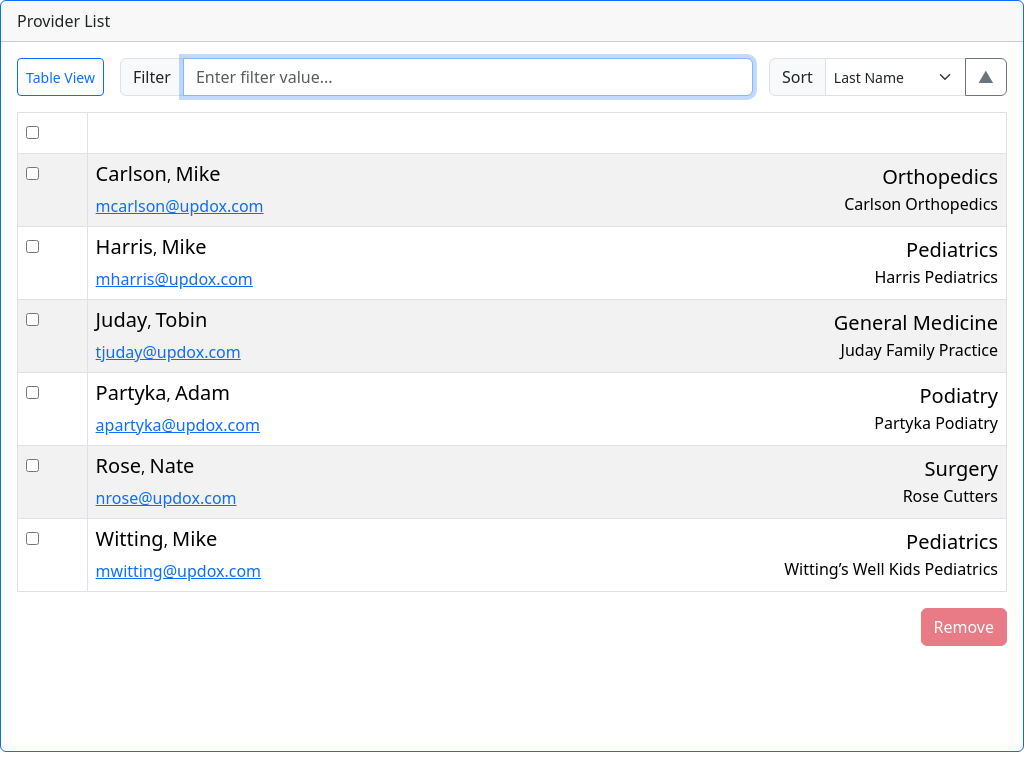
Test: ProviderList › can select and deselect all rows
The width and height of the screenshot is (1024, 768).
Click the checkbox with test id "select-all" at (32,132), box top-left (26, 126), bottom-right (39, 139)
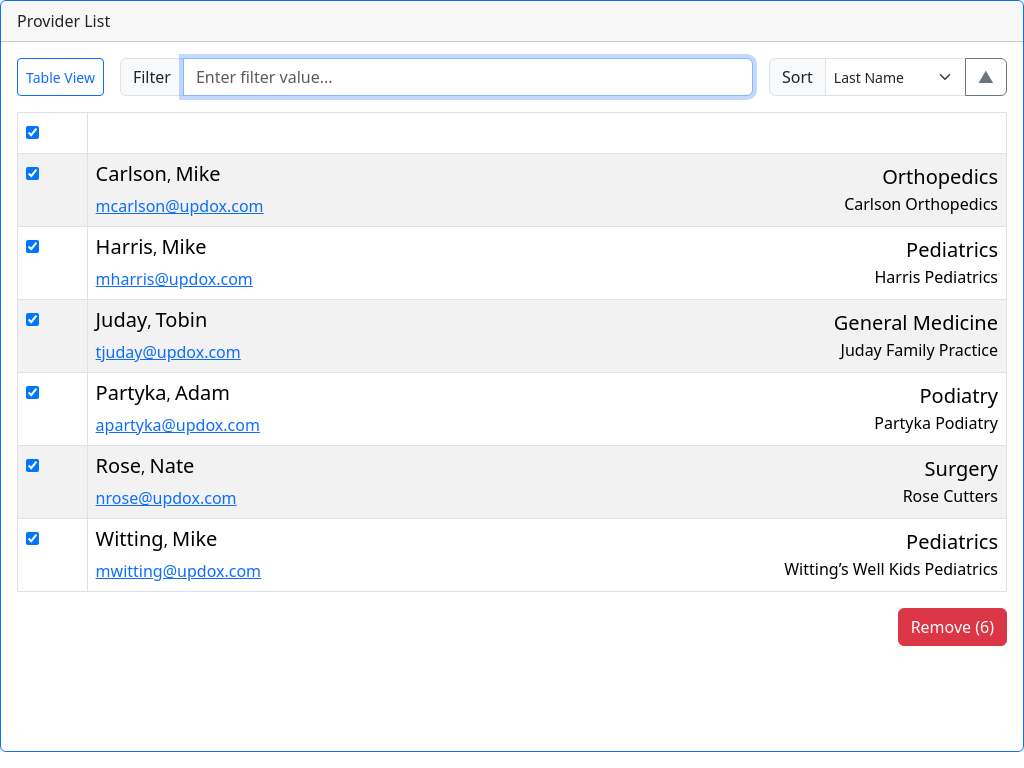
Check: the checkbox with test id "select-row-0" is checked, box top-left (26, 240), bottom-right (39, 253)
Check: the checkbox with test id "select-row-1" is checked, box top-left (26, 386), bottom-right (39, 399)
Click the checkbox with test id "select-all" at (32,132), box top-left (26, 126), bottom-right (39, 139)
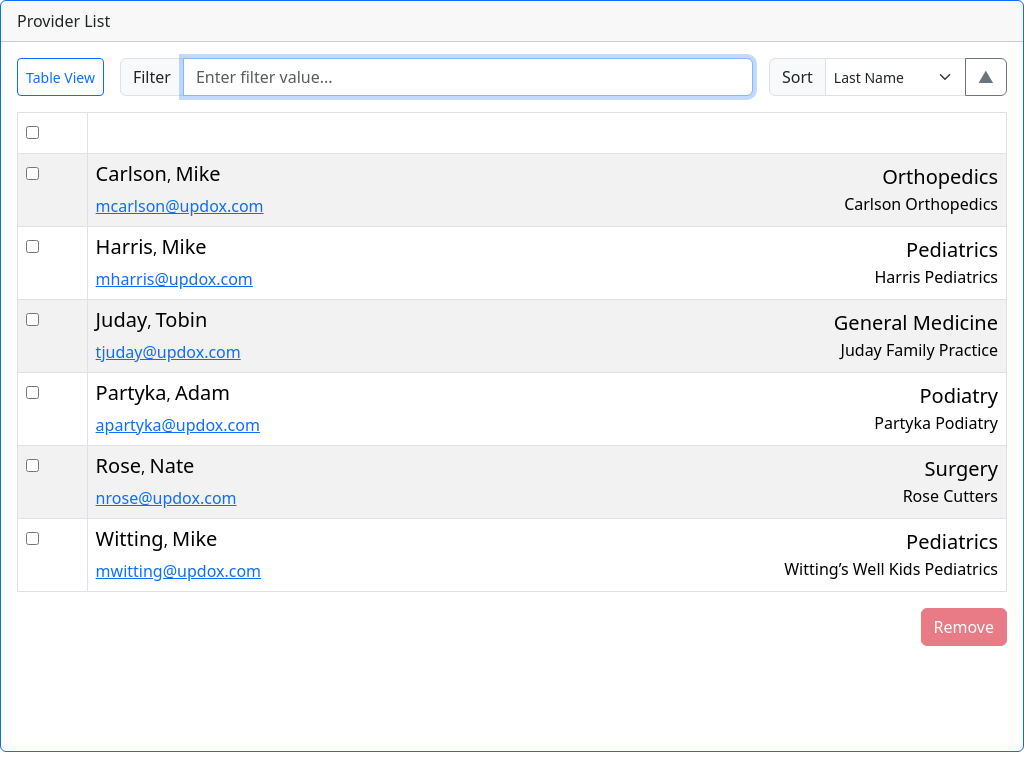
Check: the checkbox with test id "select-row-0" is not checked, box top-left (26, 240), bottom-right (39, 253)
Check: the checkbox with test id "select-row-1" is not checked, box top-left (26, 386), bottom-right (39, 399)
